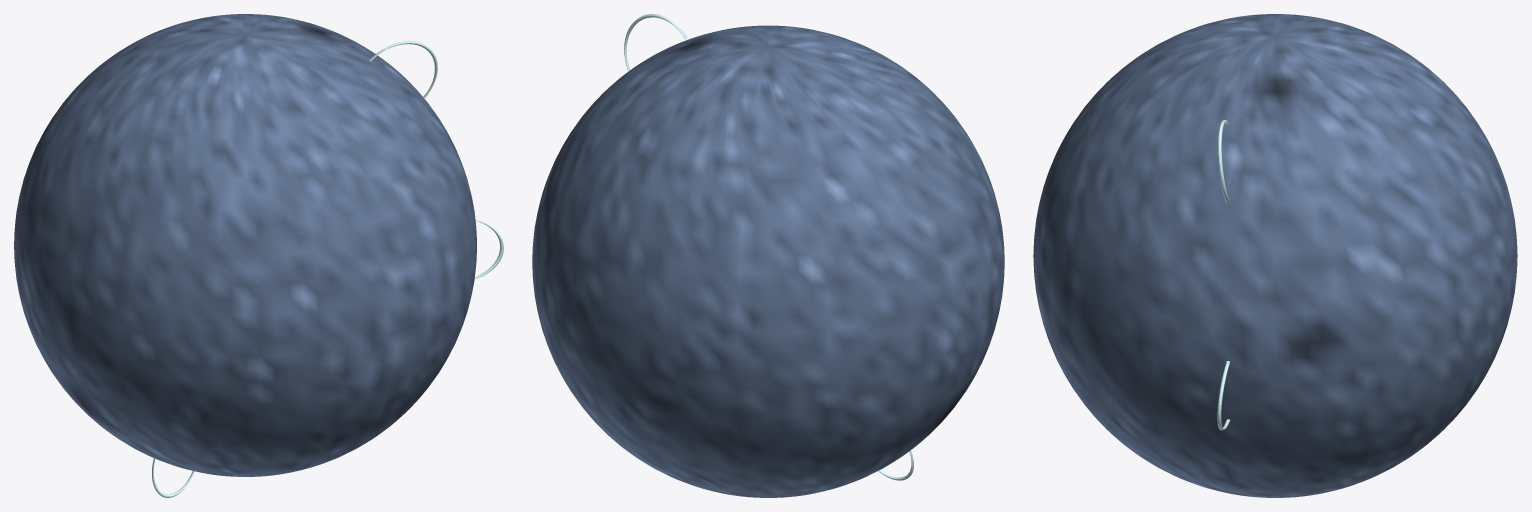
The model's file is Star_27.fbx.
3 views of the same model, side by side, from view 1: azimuth 30°, elevation 25°; view 2: azimuth 150°, elevation 25°; view 3: azimuth 270°, elevation 25° (orthographic). The views are drawn at different scales.
Visible parts, largest first — view 1: Star_27; view 2: Star_27; view 3: Star_27.
Boxes of the visible parts, x1,y1,x2,y2 form: Star_27: (14, 14, 503, 497); Star_27: (532, 14, 1004, 497); Star_27: (1033, 14, 1517, 497).
Size of the model in its own units: 215 by 200 by 200.
